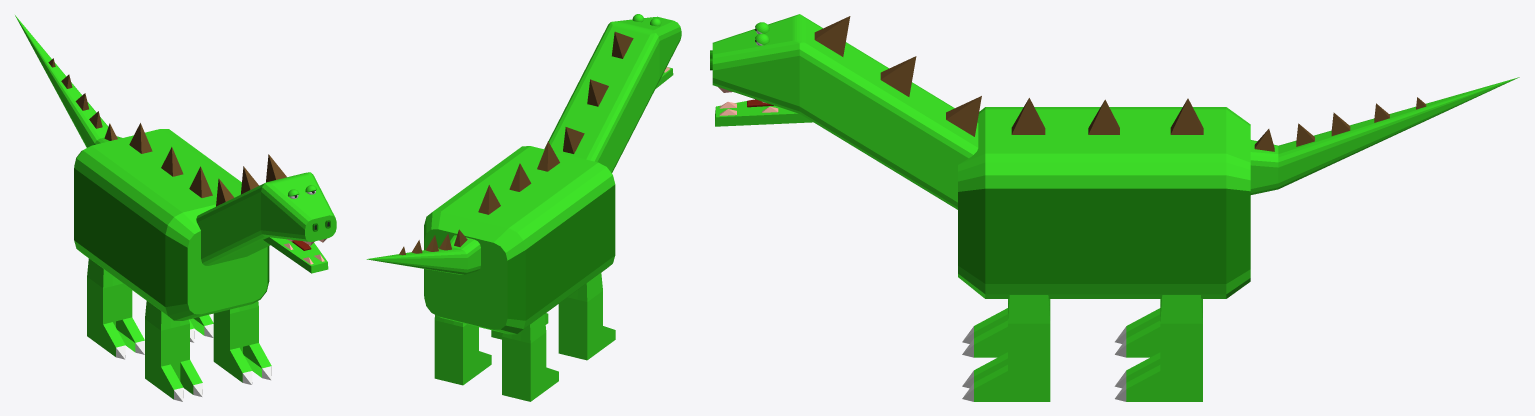
File: greendino.glb
3 renders of one model, left to right at view 1: azimuth 30°, elevation 25°; view 2: azimuth 150°, elevation 25°; view 3: azimuth 270°, elevation 25°, orthographic. The views are drawn at different scales.
Visible parts, largest first — view 1: Cube, Cube.003, Cube.004, Cube.007, Cube.005, Cube.002; view 2: Cube, Cube.004, Cube.003, Cube.002; view 3: Cube, Cube.007, Cube.002, Cube.005, Cube.004, Cube.003.
Boxes of the visible parts, x1,y1,x2,y2 form: Cube: [15, 15, 336, 320]; Cube.003: [145, 301, 202, 401]; Cube.004: [87, 258, 144, 359]; Cube.007: [213, 301, 271, 384]; Cube.005: [263, 237, 328, 273]; Cube.002: [189, 314, 213, 342]; Cube: [366, 16, 681, 334]; Cube.004: [502, 314, 558, 401]; Cube.003: [558, 273, 615, 360]; Cube.002: [434, 315, 491, 385]; Cube: [710, 14, 1519, 298]; Cube.007: [962, 295, 1050, 401]; Cube.002: [1114, 295, 1202, 401]; Cube.005: [715, 101, 812, 126]; Cube.004: [1115, 299, 1202, 357]; Cube.003: [962, 299, 1050, 357].
Bounding box in the file's own units: 2 × 4.95 × 10.27.
1 material, 1 textured.
